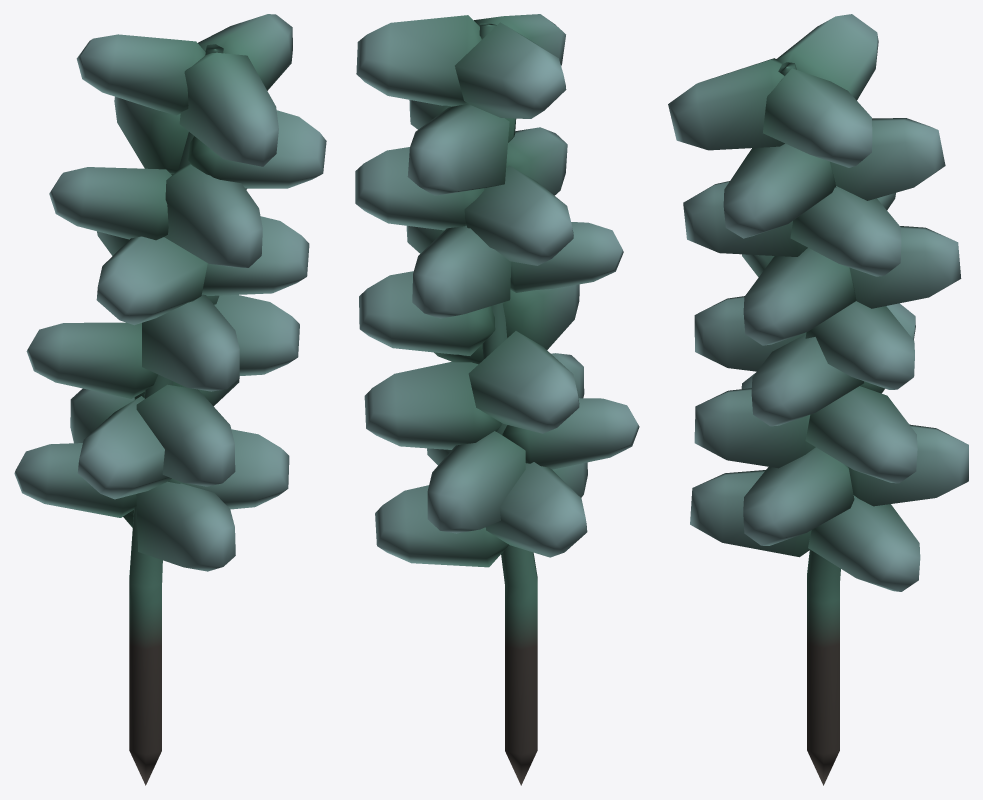
The model's file is plants-cacti-succulents-burro-s-tail_v1.fbx.
3 renders of one model, left to right at view 1: azimuth 30°, elevation 25°; view 2: azimuth 150°, elevation 25°; view 3: azimuth 270°, elevation 25°, orthographic.
Parts seen in each view (by area): view 1: Burro's Tail_v1; view 2: Burro's Tail_v1; view 3: Burro's Tail_v1.
Part boxes in pixels (left/top/right/bottom): Burro's Tail_v1: left=14, top=14, right=326, bottom=785; Burro's Tail_v1: left=355, top=14, right=639, bottom=785; Burro's Tail_v1: left=668, top=14, right=968, bottom=785.
Size of the model in its own units: 0.1055 by 0.3 by 0.1078.
